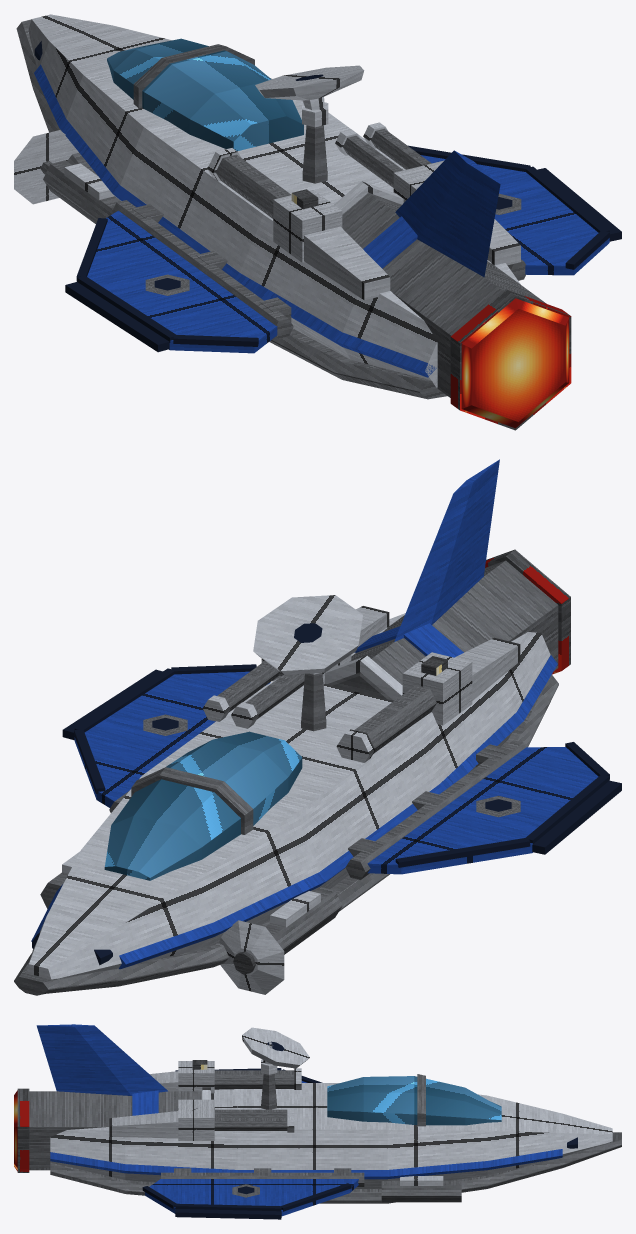
The model's file is puffin.glb.
3 views of the same model, one above another, from view 1: azimuth 30°, elevation 25°; view 2: azimuth 150°, elevation 25°; view 3: azimuth 270°, elevation 25° (orthographic). The views are drawn at different scales.
Visible parts, largest first — view 1: hull, canopy, plate, exhaust, booster, fin, plate.001, chine_stripe, lip, shoulder_fairing, hinge, receiver (+22 smaller); view 2: hull, canopy, plate, plate.001, booster, fin, projector_dish, lip, chine_stripe, dish, hinge, receiver (+20 smaller); view 3: hull, canopy, fin, booster, plate.001, lip, chine_stripe.001, projector_dish, shoulder_fairing.001, pod.001, receiver.001, hinge.001 (+14 smaller).
Boxes of the visible parts, x1,y1,x2,y2 form: hull: (28, 14, 520, 387); canopy: (107, 38, 303, 151); plate: (87, 210, 277, 353); exhaust: (461, 298, 569, 428); booster: (342, 192, 546, 397); fin: (395, 150, 500, 277); plate.001: (421, 155, 609, 275); chine_stripe: (34, 64, 436, 377); lip: (16, 19, 447, 399); shoulder_fairing: (304, 226, 390, 300); hinge: (111, 200, 293, 339); receiver: (273, 190, 342, 262); hull: (26, 613, 550, 979); canopy: (104, 731, 302, 880); plate: (367, 747, 598, 874); plate.001: (74, 671, 270, 807); booster: (349, 560, 558, 684); fin: (394, 459, 499, 641); projector_dish: (253, 595, 362, 674); lip: (14, 674, 558, 995); chine_stripe: (119, 655, 557, 969); dish: (219, 920, 284, 994); hinge: (345, 740, 525, 879); receiver: (402, 652, 472, 725); hull: (50, 1083, 612, 1188); canopy: (327, 1076, 501, 1125); fin: (36, 1024, 167, 1095); booster: (29, 1091, 202, 1170); plate.001: (145, 1179, 358, 1216); lip: (50, 1132, 621, 1203); chine_stripe.001: (50, 1149, 562, 1179); projector_dish: (242, 1027, 309, 1068); shoulder_fairing.001: (109, 1111, 178, 1138); pod.001: (381, 1180, 461, 1202); receiver.001: (178, 1099, 214, 1140); hinge.001: (161, 1172, 364, 1186).
Size of the model in its own units: 47.84 by 23.63 by 83.67.
12 materials, 12 textured.
